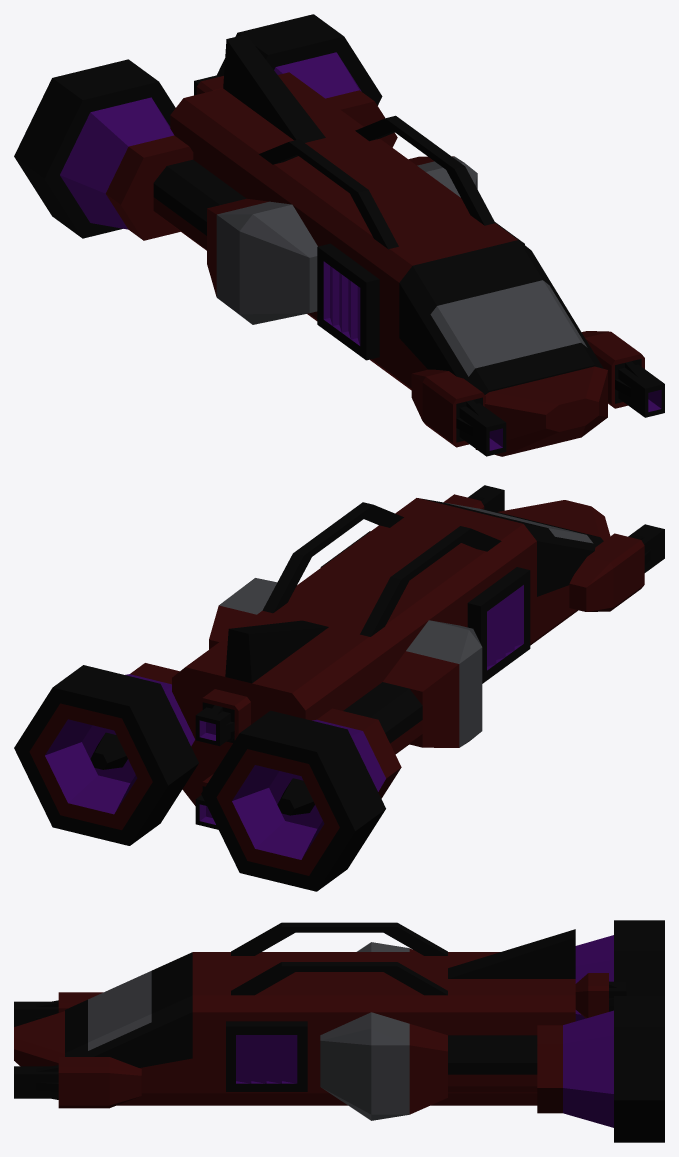
Rendered from ship_1_cent.obj.
3 views of the same model, one above another, from view 1: azimuth 30°, elevation 25°; view 2: azimuth 150°, elevation 25°; view 3: azimuth 270°, elevation 25° (orthographic). The views are drawn at different scales.
Parts seen in each view (by area): view 1: ship_1; view 2: ship_1; view 3: ship_1.
Boxes of the visible parts, x1,y1,x2,y2 form: ship_1: [14, 14, 664, 456]; ship_1: [14, 485, 664, 891]; ship_1: [14, 920, 664, 1142].
Size of the model in its own units: 2.55 by 1.35 by 5.1.
1 material, 1 textured.
